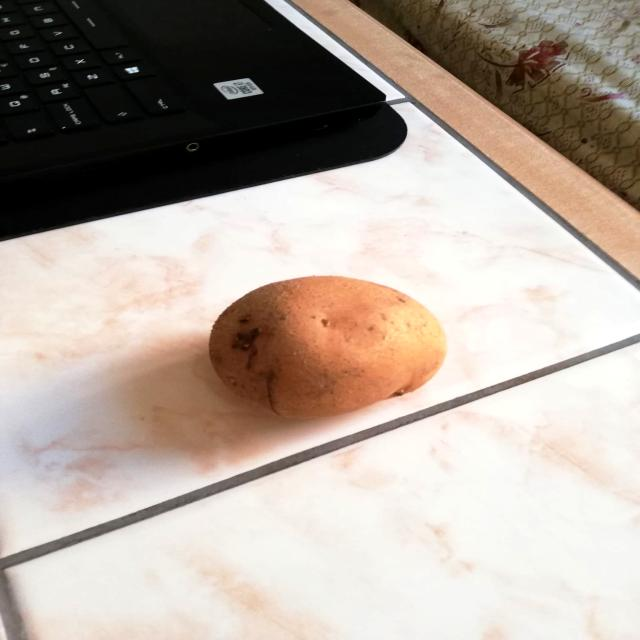potato: (203, 271, 453, 423)
